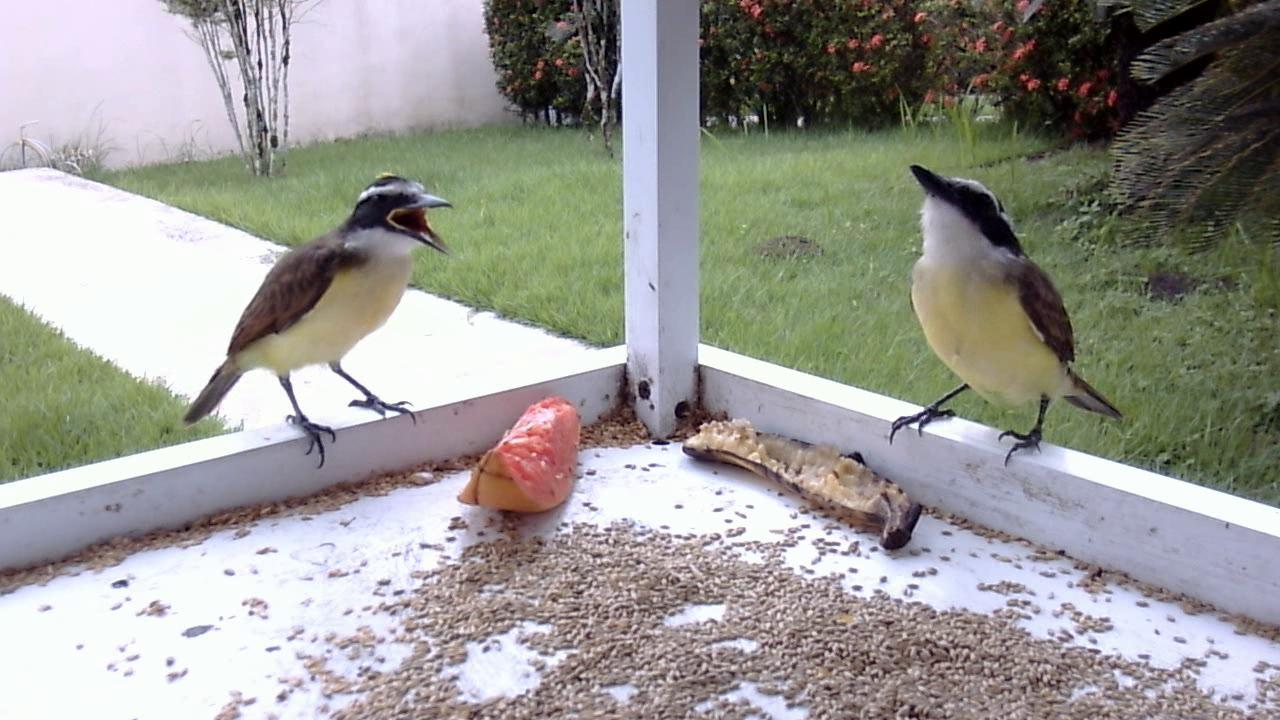bem_te_vi: (172, 162, 457, 481), (877, 155, 1130, 481)
